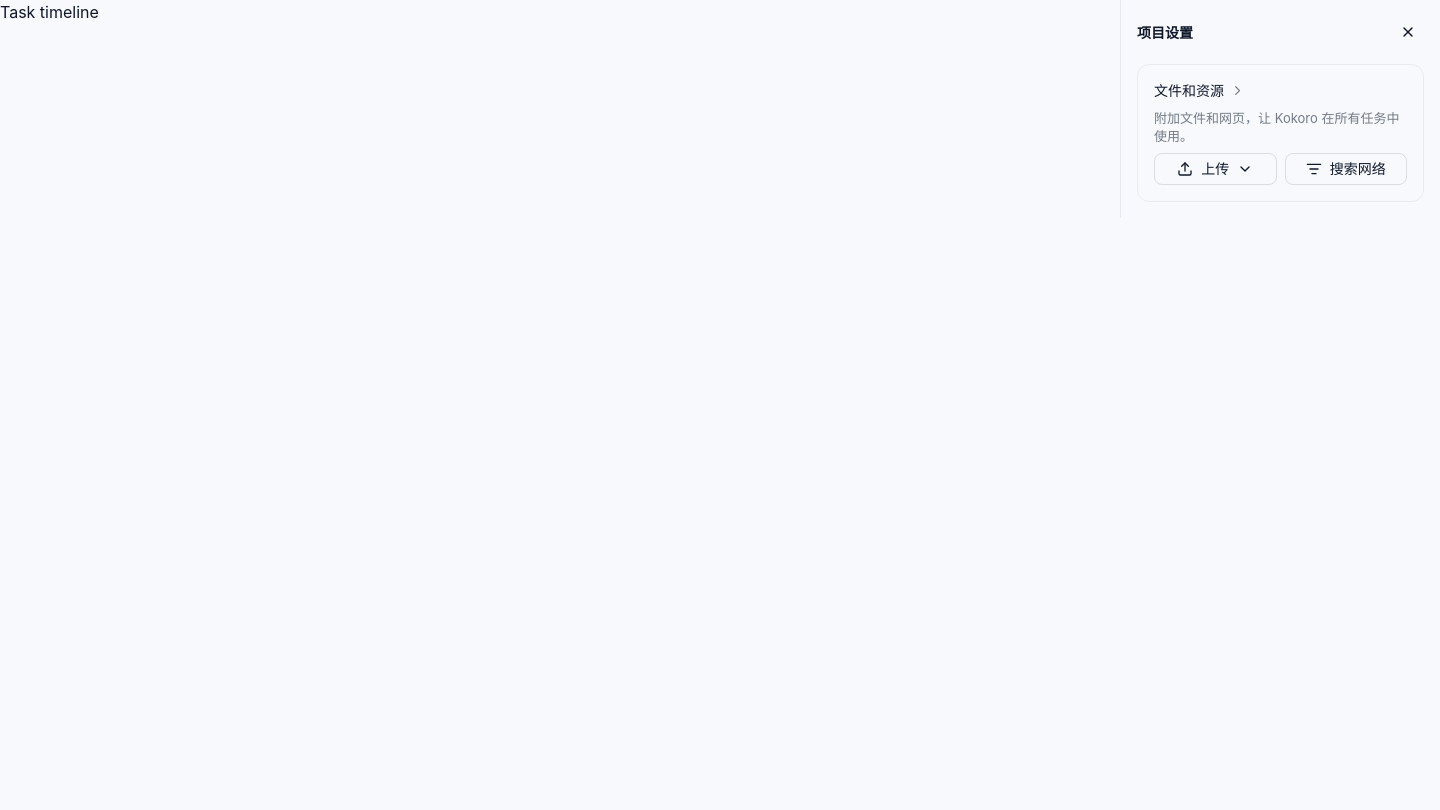
queued Upload chooser is retired by current before the animation frame
The image size is (1440, 810).
Click the button "上传" at (1215, 169), box [1154, 153, 1276, 185]
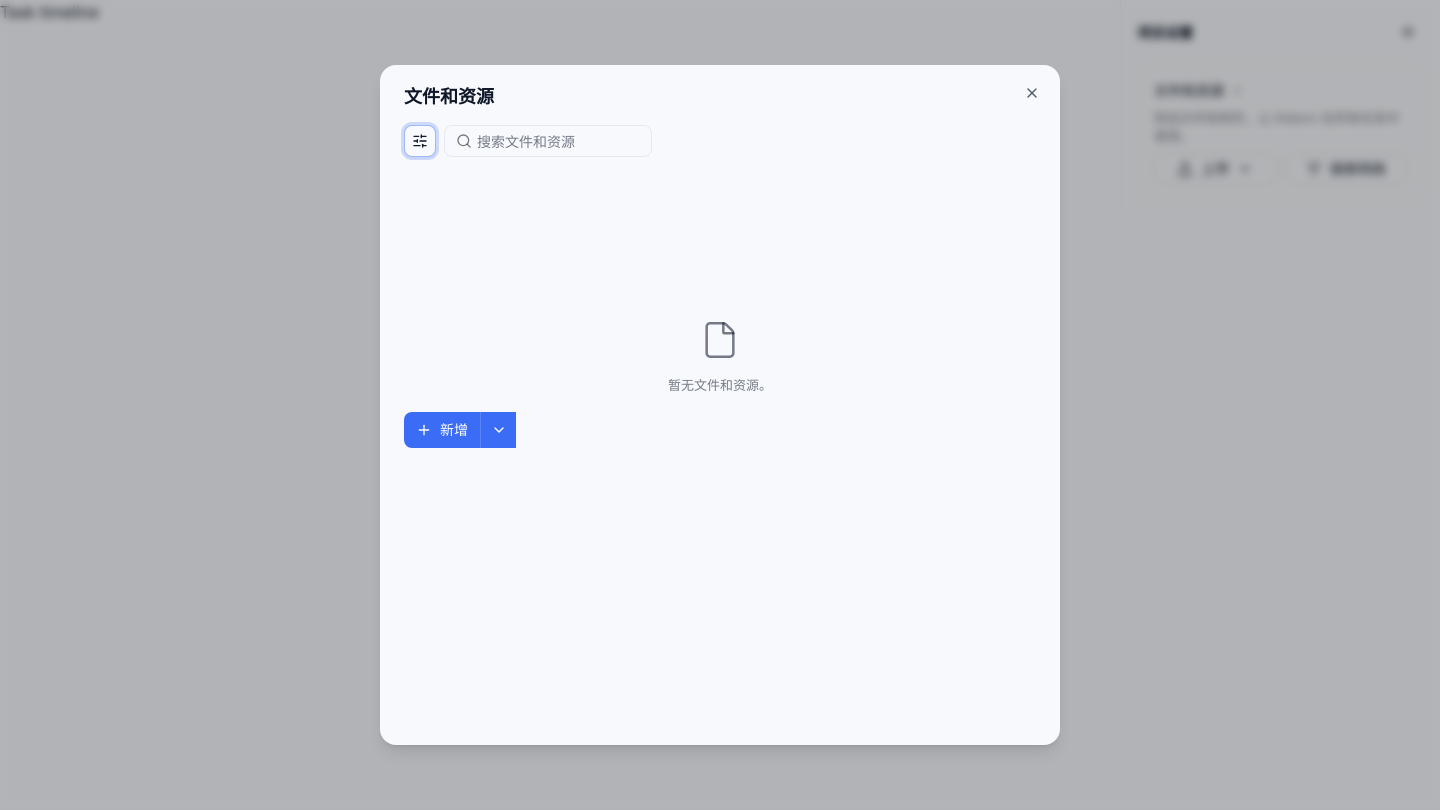
Expected: the dialog "文件和资源" is shown, [380, 65, 1060, 745]
